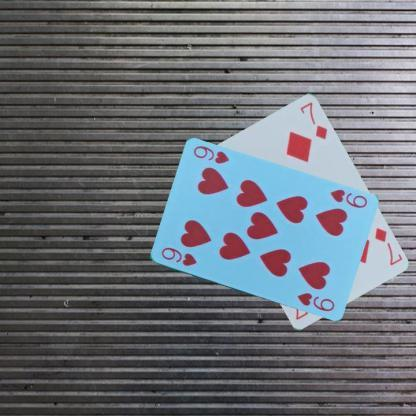7d: (372, 224, 404, 266)
9h: (327, 186, 368, 209), (158, 245, 198, 268)
